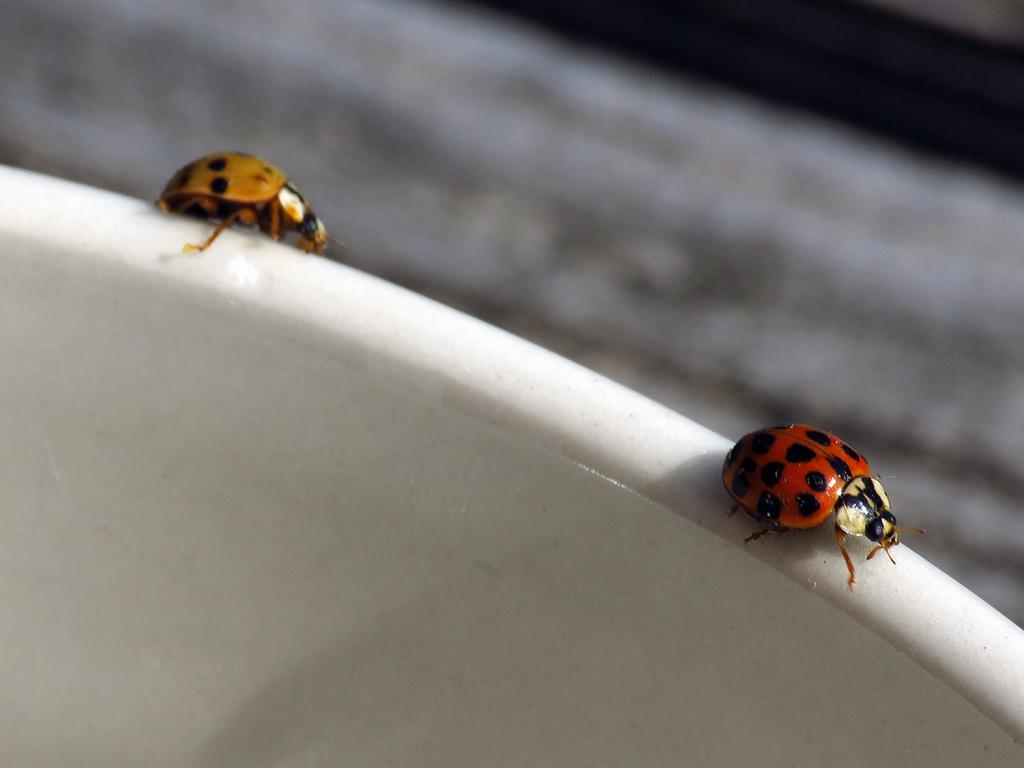ladybug: (719, 421, 936, 594), (154, 149, 341, 259)
